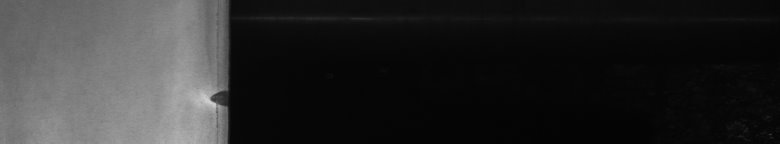hb: (196, 52, 216, 120)
